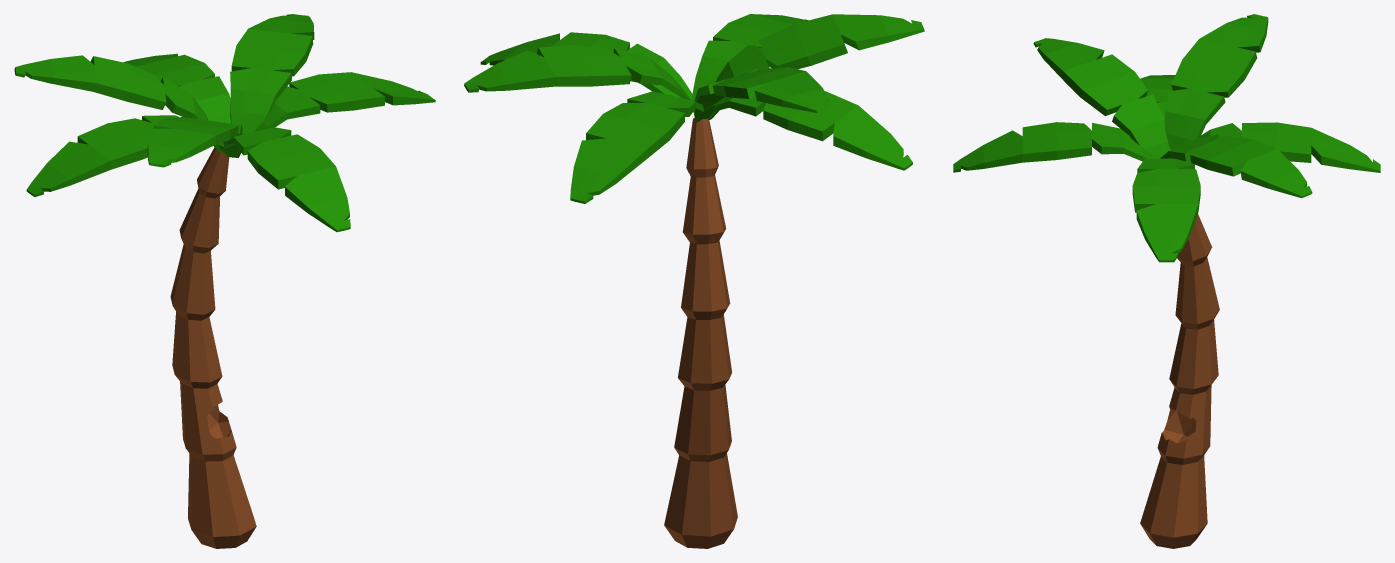
File: tree2.fbx
3 views of the same model, side by side, from view 1: azimuth 30°, elevation 25°; view 2: azimuth 150°, elevation 25°; view 3: azimuth 270°, elevation 25° (orthographic). The views are drawn at different scales.
Visible parts, largest first — view 1: Cylinder, Cube.008, Cube.004, Cube.006, Cube, Cube.001, Cube.005, Cube.002; view 2: Cylinder, Cube.002, Cube.008, Cube.005, Cube, Cube.006, Cube.004, Cube.001; view 3: Cylinder, Cube.006, Cube.005, Cube.001, Cube.004, Cube.008, Cube.002, Cube.
Part boxes in pixels (x1,y1,x2,y2): Cylinder: (170,147,256,548); Cube.008: (230,14,314,134); Cube.004: (224,127,350,232); Cube.006: (14,55,221,152); Cube: (26,115,223,196); Cube.001: (254,72,435,131); Cube.005: (147,116,242,167); Cube.002: (123,53,230,123); Cylinder: (664,118,737,548); Cube.002: (570,91,704,203); Cube.008: (464,44,691,100); Cube.005: (708,14,924,119); Cube: (699,91,912,170); Cube.006: (694,67,831,122); Cube.004: (692,14,808,101); Cube.001: (480,32,692,100); Cylinder: (1140,214,1219,548); Cube.006: (1164,14,1268,149); Cube.005: (1033,38,1168,158); Cube.001: (1132,158,1200,262); Cube.004: (953,122,1158,172); Cube.008: (1160,134,1312,198); Cube.002: (1190,122,1380,172); Cube: (1140,75,1175,151).
Size of the model in its own units: 1840 by 2099 by 1806.
